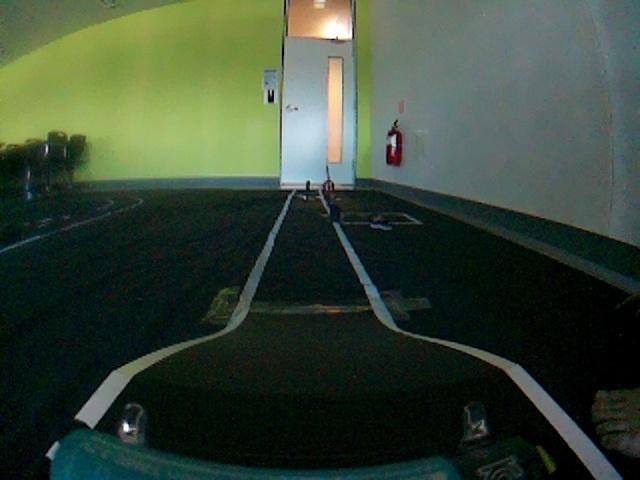go: (199, 210, 405, 313)
hill_down: (51, 318, 612, 480)
